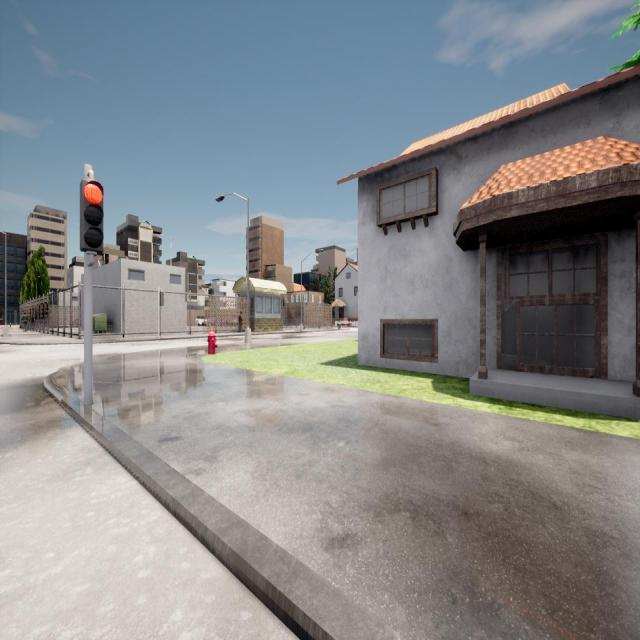Pedestrian: (21, 312, 28, 331), (238, 311, 243, 333)
Vehicle: (196, 316, 207, 326)
traffic_light: (80, 180, 104, 250), (160, 292, 164, 306)
